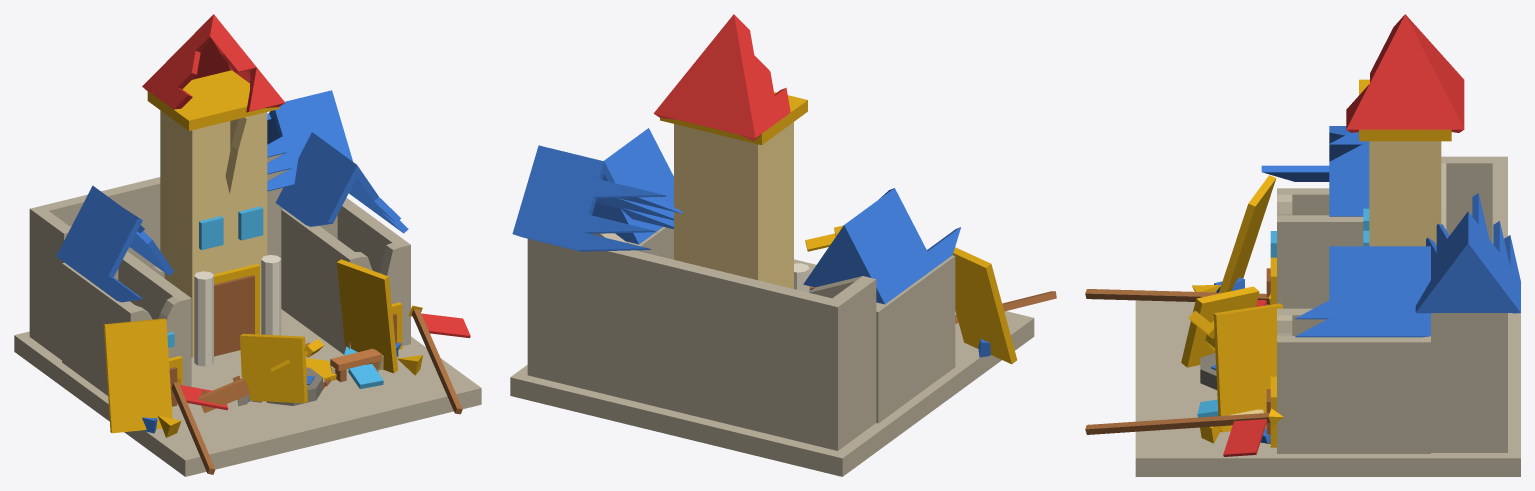
Rendered from university_t3_v1_dmg1.glb.
3 views of the same model, side by side, from view 1: azimuth 30°, elevation 25°; view 2: azimuth 150°, elevation 25°; view 3: azimuth 270°, elevation 25° (orthographic). The views are drawn at different scales.
Visible parts, largest first — view 1: university_t3_v1_dmg1; view 2: university_t3_v1_dmg1; view 3: university_t3_v1_dmg1.
Part boxes in pixels (box(x1,y1,x2,y2)): university_t3_v1_dmg1: box(14, 14, 481, 476); university_t3_v1_dmg1: box(510, 14, 1056, 476); university_t3_v1_dmg1: box(1085, 14, 1520, 476).
Bounding box in the file's own units: 0.9114 × 0.82 × 0.8485.
1 material, 1 textured.
